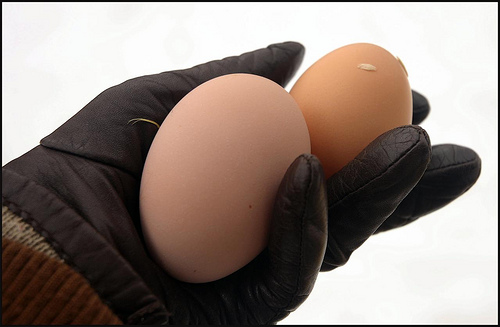egg: (136, 71, 310, 284), (289, 42, 413, 174)
